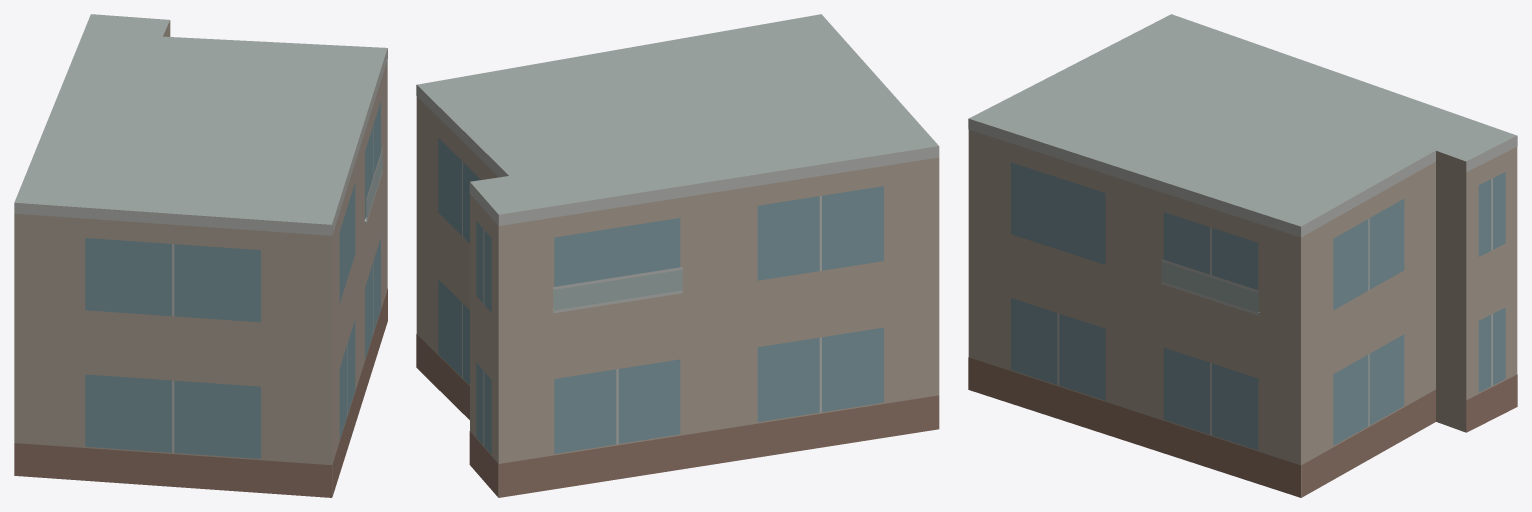
The model's file is survey-upis-32775213.glb.
3 views of the same model, side by side, from view 1: azimuth 30°, elevation 25°; view 2: azimuth 150°, elevation 25°; view 3: azimuth 270°, elevation 25° (orthographic). The views are drawn at different scales.
Parts seen in each view (by area): view 1: survey-upis-32775213.tmp; view 2: survey-upis-32775213.tmp; view 3: survey-upis-32775213.tmp.
Boxes of the visible parts, x1,y1,x2,y2 form: survey-upis-32775213.tmp: (14,14,387,497); survey-upis-32775213.tmp: (416,14,939,497); survey-upis-32775213.tmp: (968,14,1517,497).
Size of the model in its own units: 10.27 by 6.1 by 11.2.
